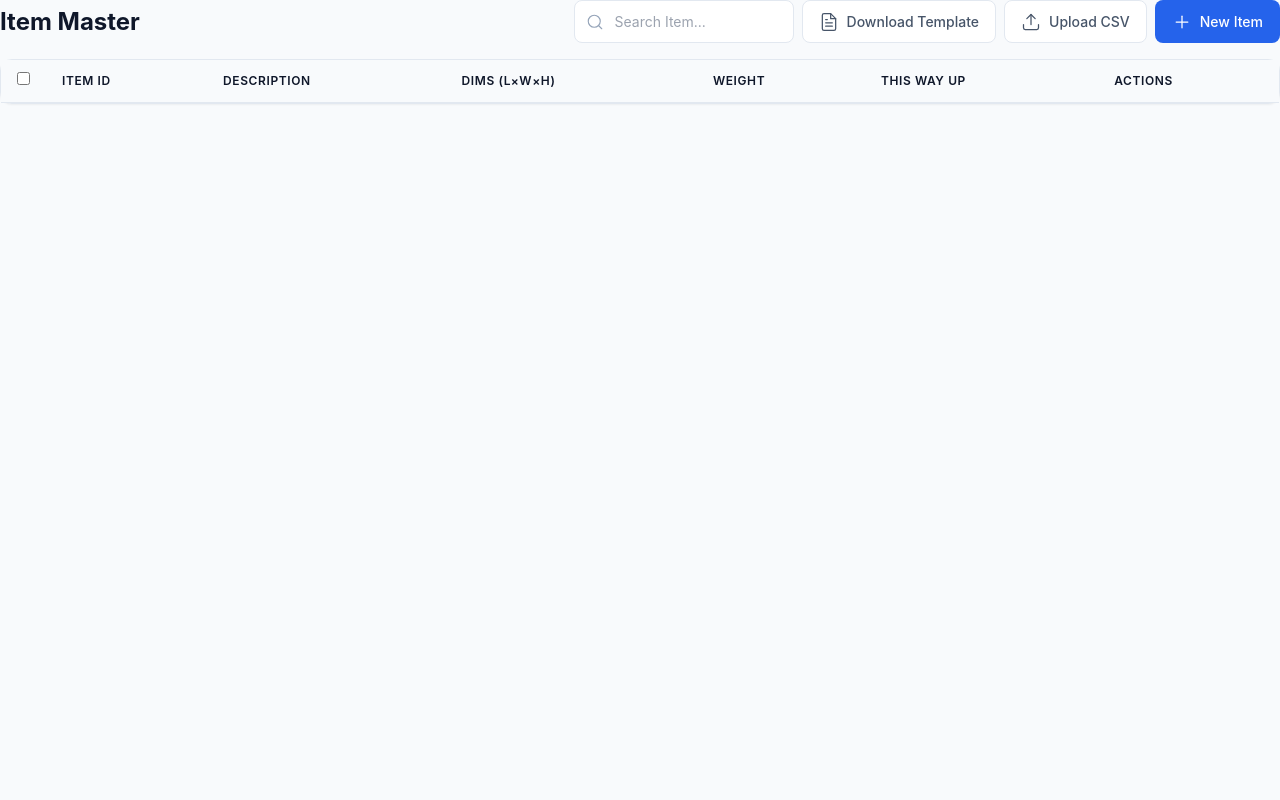
+ New Modal (Section 6.4 - FE-17 to FE-19) › Item Master + New Modal › FE-18: Modal stays open on validation error
The image size is (1280, 800).
Click the button "New Item".
click(1217, 22)  # box [1155,0,1279,43]
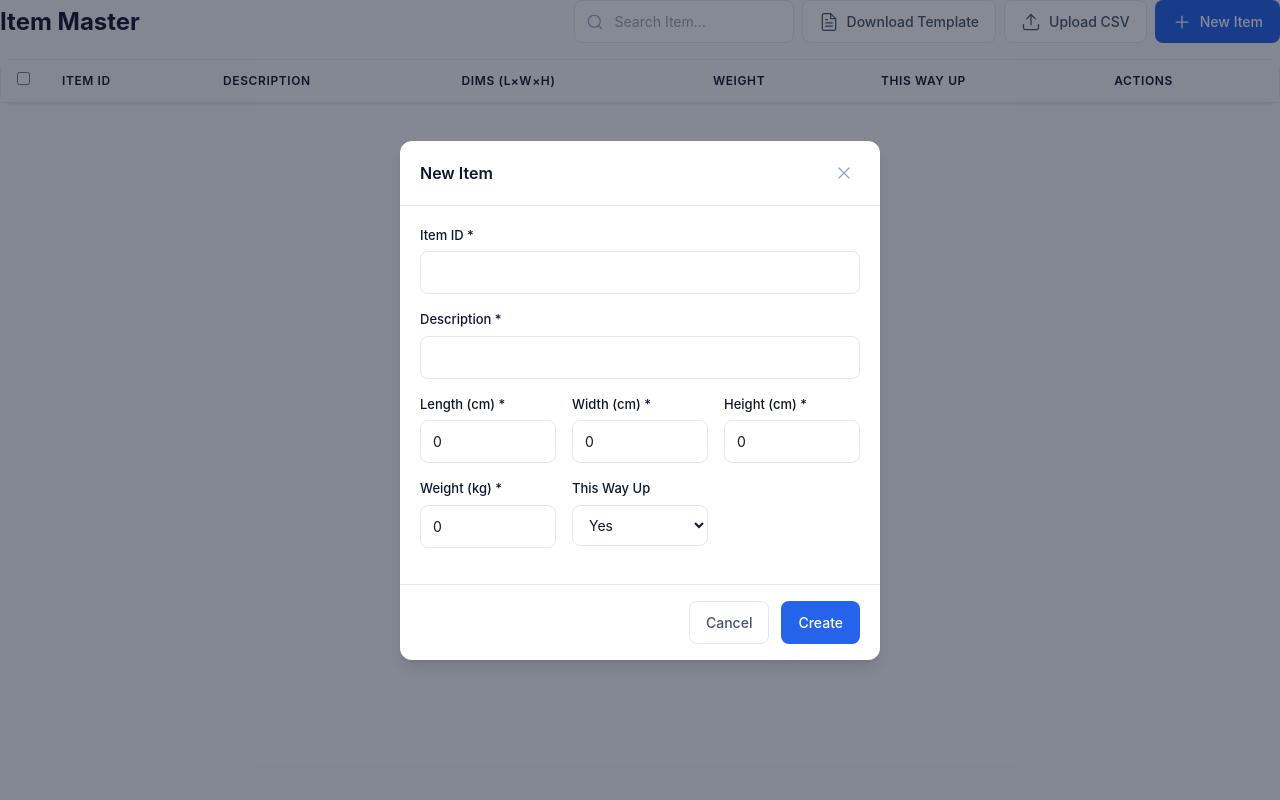
Result: the dialog is shown at [400,140,880,660]
Replace the text in the number field labelled "Length (cm) *" with "-10" at {"x": 488, "y": 442}, box [420,420,556,463]
Type "Test Item" into the field labelled "Description *".
click(640, 357); type("Test Item")  # box [420,336,860,378]
Replace the text in the number field labelled "Width (cm) *" with "50" at {"x": 640, "y": 442}, box [572,420,708,463]
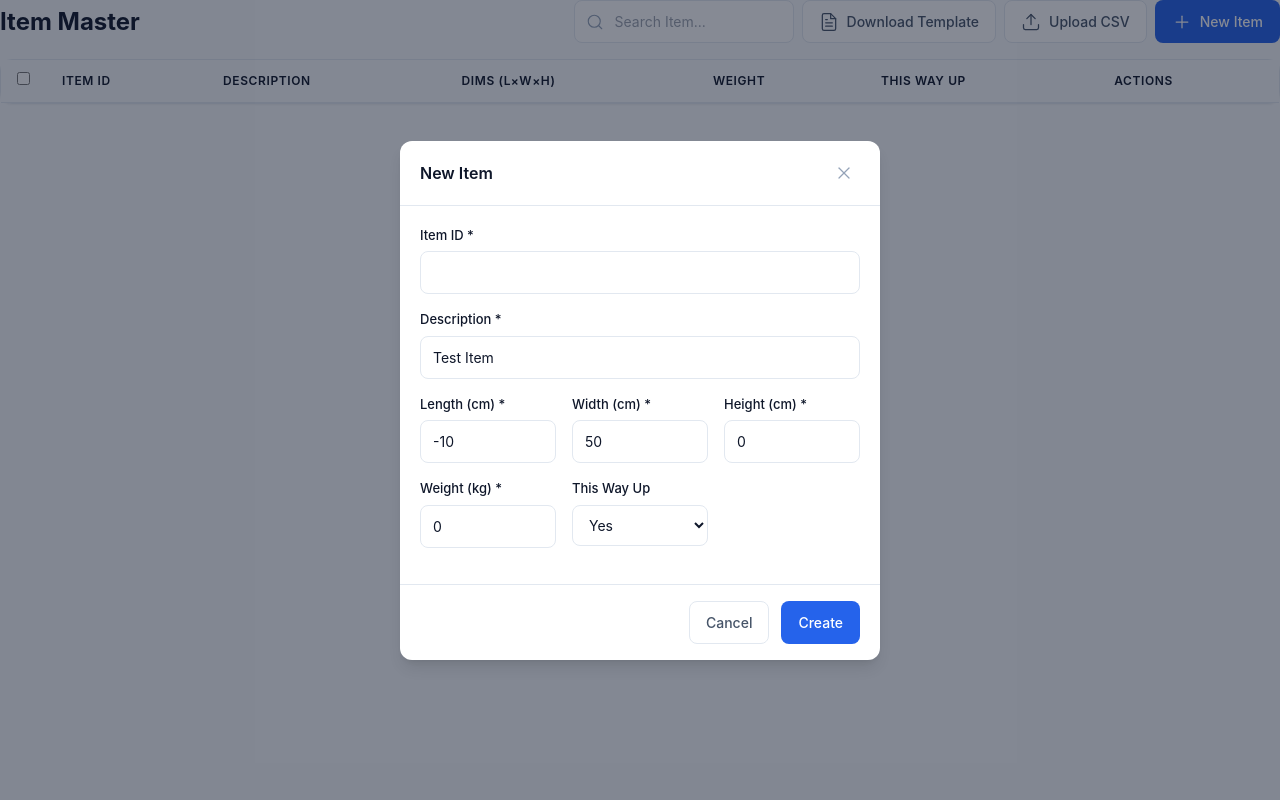
Replace the text in the number field labelled "Height (cm) *" with "40" at {"x": 792, "y": 442}, box [724,420,860,463]
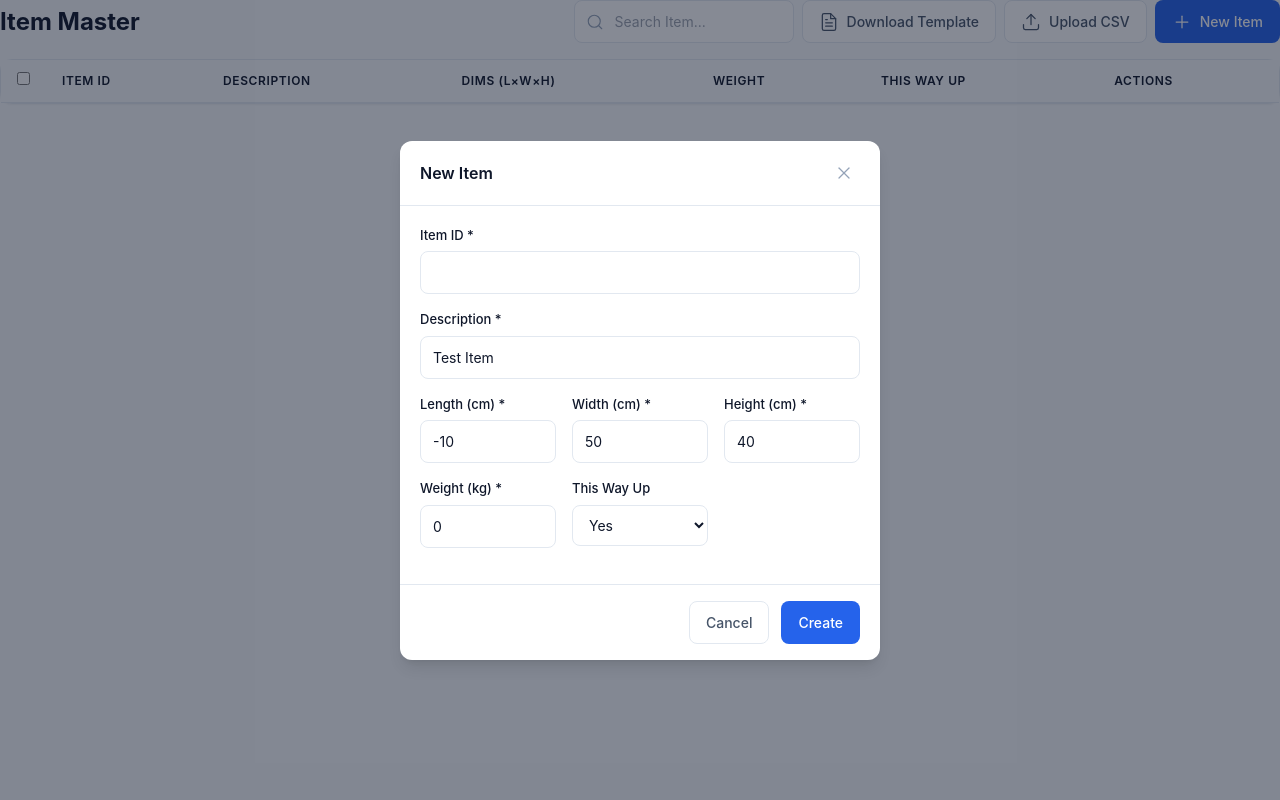
Replace the text in the number field labelled "Weight (kg) *" with "20" at {"x": 488, "y": 526}, box [420,504,556,548]
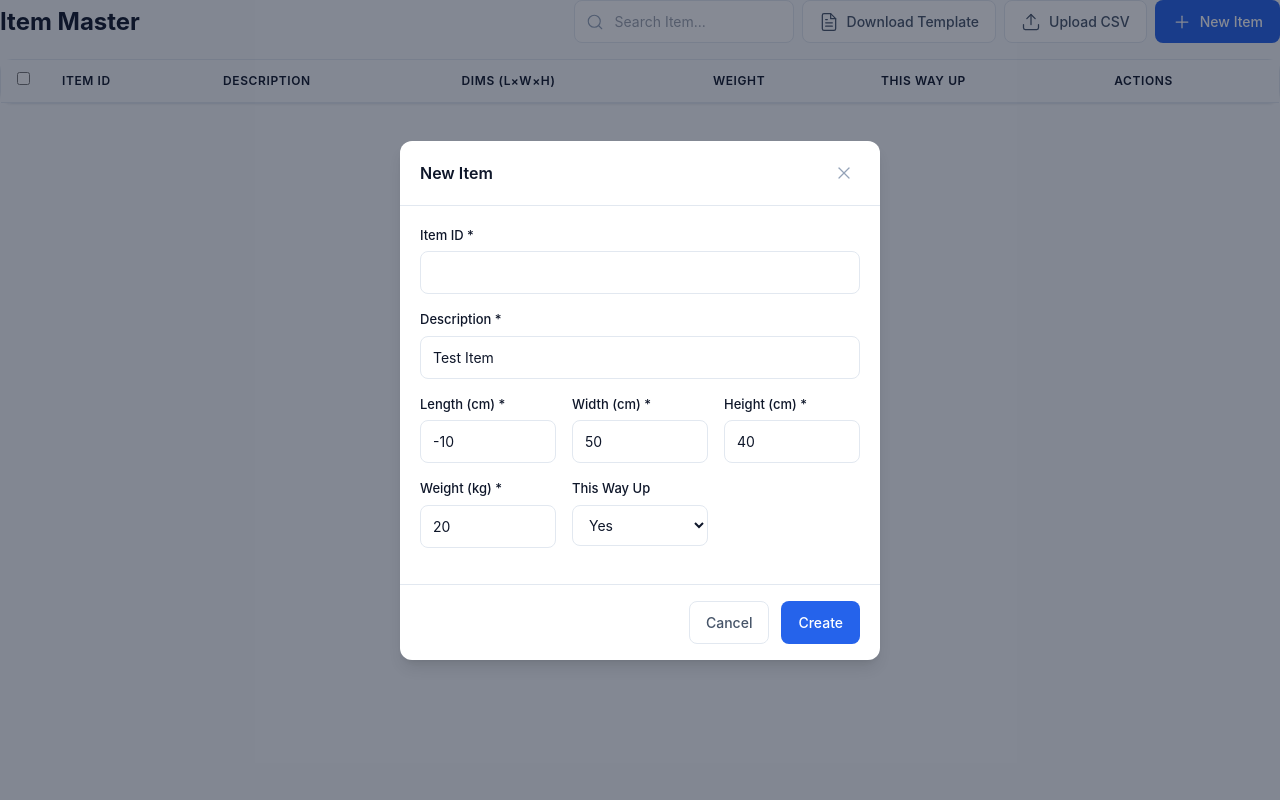
Type "TEST-ITEM" into the field labelled "Item ID *".
click(640, 272); type("TEST-ITEM")  # box [420,251,860,294]
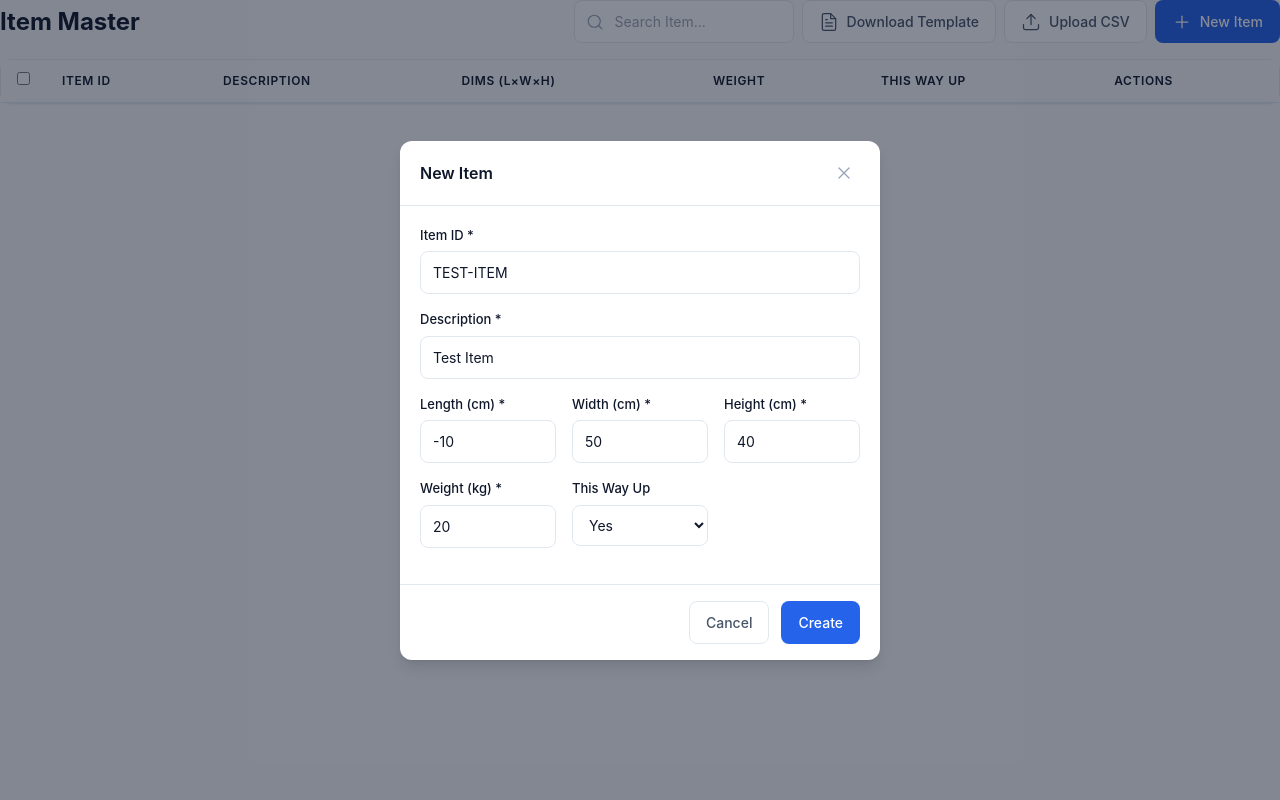
Click the button "Create".
click(821, 622)  # box [781,600,860,644]
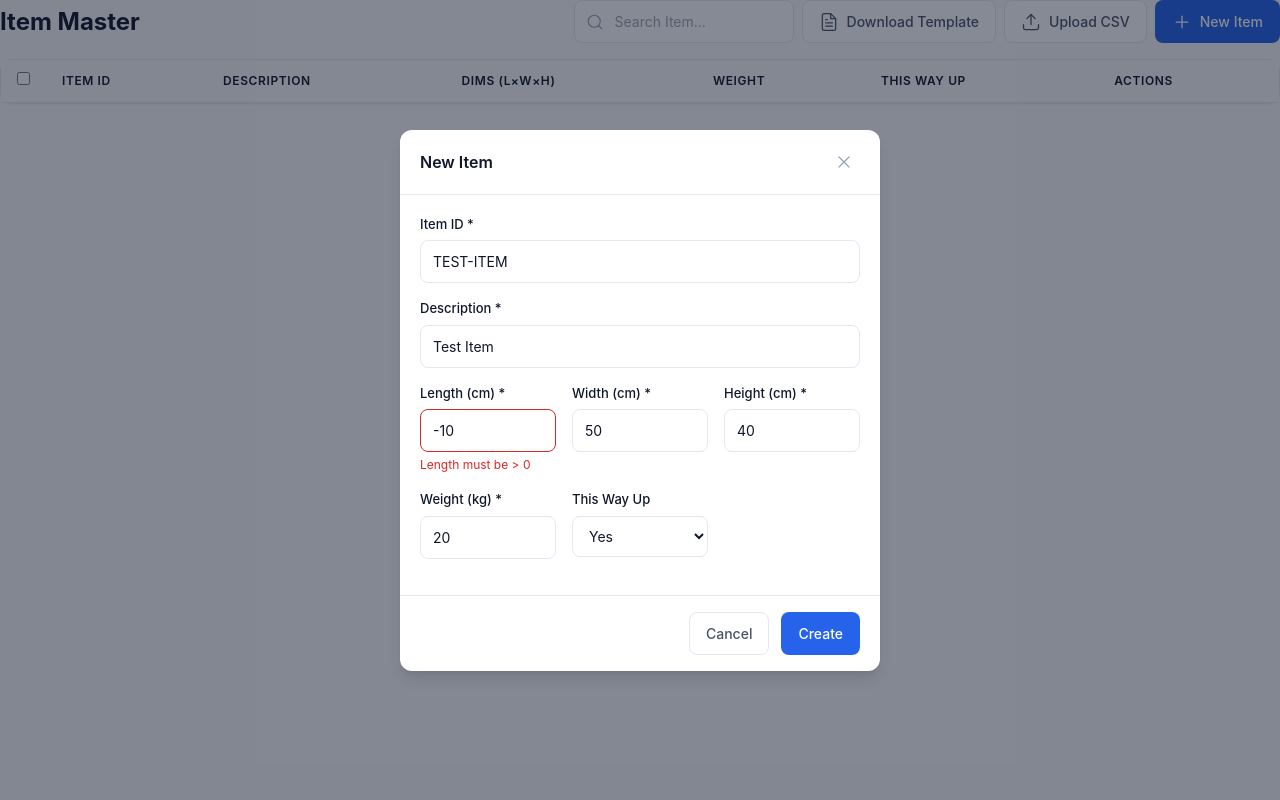
Result: the dialog is shown at [400,130,880,670]
Result: the text "Length must be > 0" is shown at [420,457,530,472]
